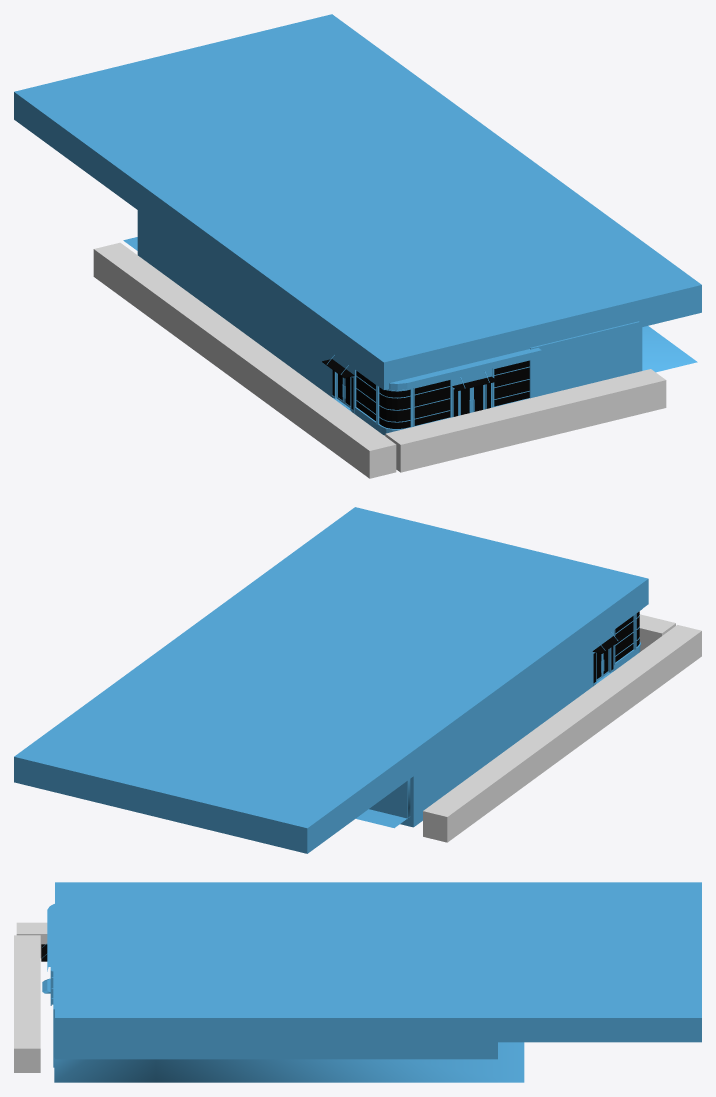
File: Minimarket_v2.fbx
The picture shows the model from 3 angles, top to bottom: view 1: azimuth 30°, elevation 25°; view 2: azimuth 150°, elevation 25°; view 3: azimuth 270°, elevation 25°; orthographic projection. The views are drawn at different scales.
Visible parts, largest first — view 1: roof, Cube_44, Cube.001, Cube; view 2: roof, Cube.001, Cube_44, Cube; view 3: roof, Cube_44, Cube, Cube.001.
Boxes of the visible parts, x1,y1,x2,y2 form: roof: [14, 14, 701, 389]; Cube_44: [123, 210, 697, 435]; Cube.001: [93, 242, 396, 478]; Cube: [385, 369, 666, 472]; roof: [14, 507, 648, 853]; Cube.001: [423, 625, 701, 842]; Cube_44: [356, 608, 642, 828]; Cube: [639, 614, 675, 652]; roof: [55, 882, 701, 1042]; Cube_44: [41, 904, 524, 1082]; Cube: [14, 935, 40, 1072]; Cube.001: [16, 922, 47, 957].
Size of the model in its own units: 2667 by 659 by 5129.
